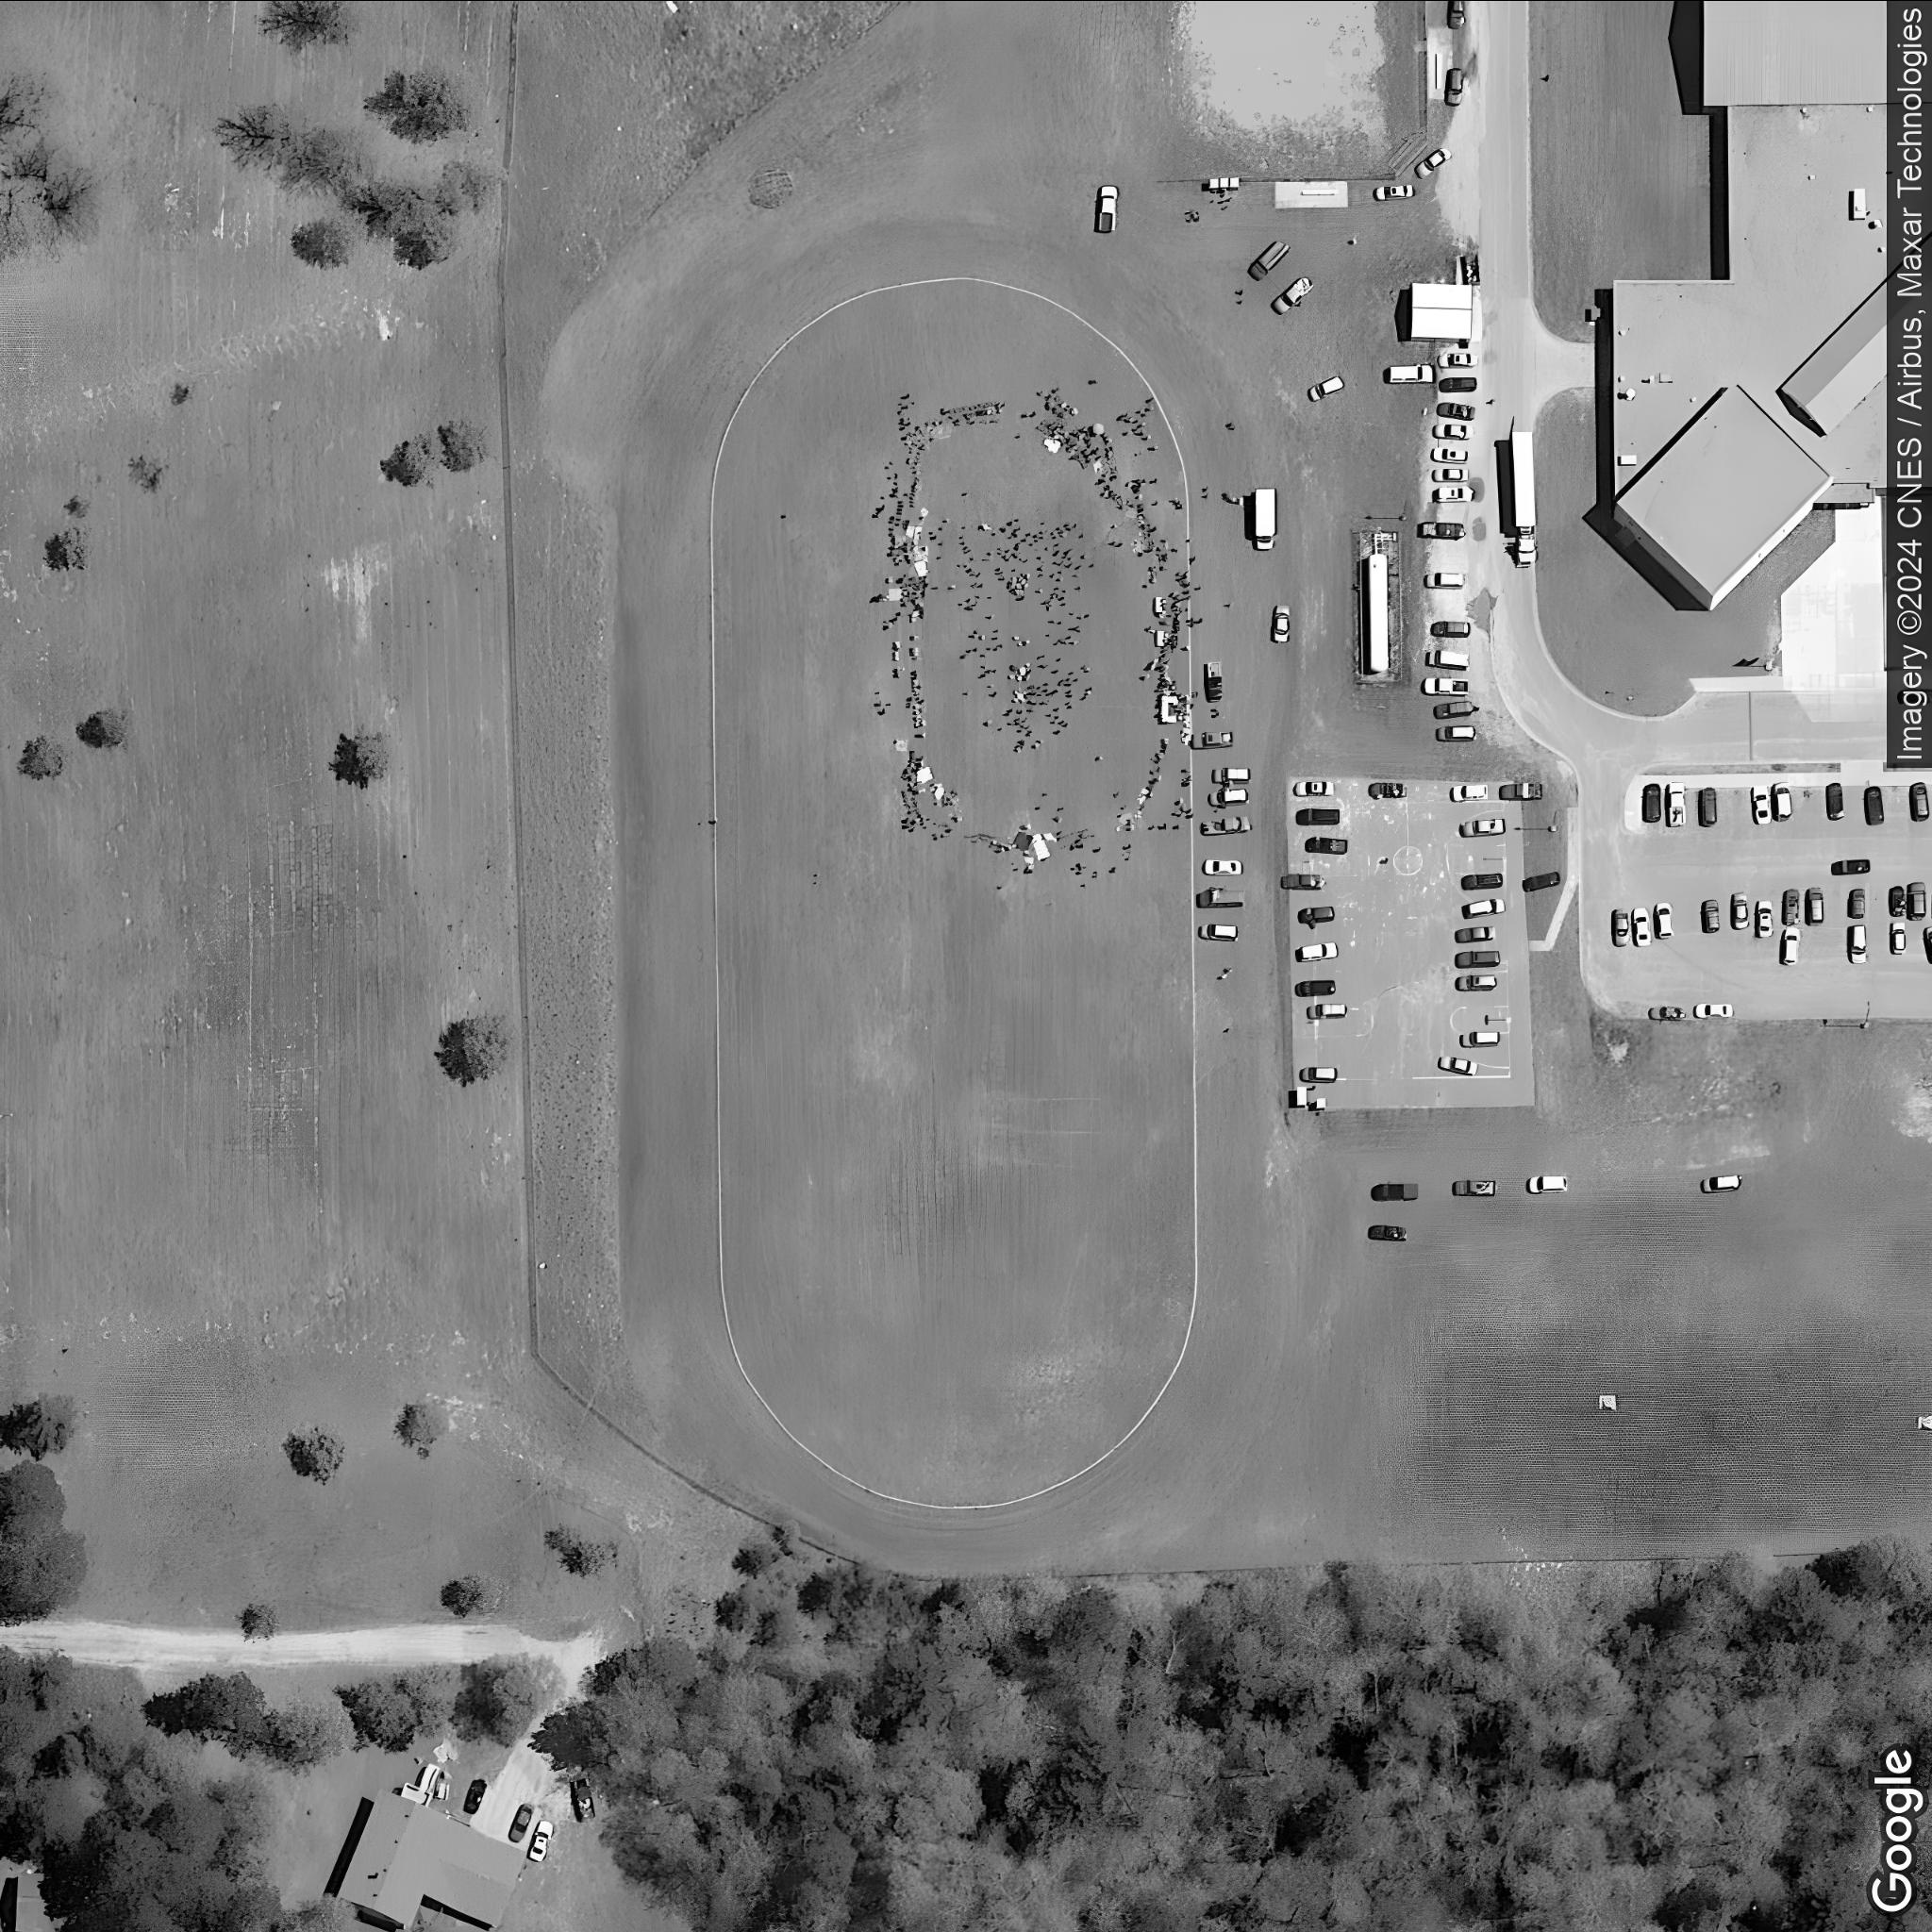House: (333, 1787, 533, 1930)
Other: (1612, 2, 1886, 612)
Propane: (1359, 550, 1391, 678)
